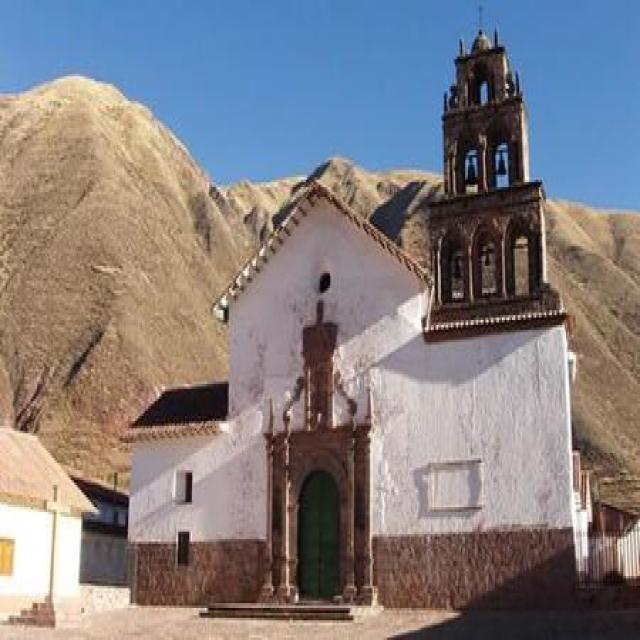6: (396, 8, 591, 599)
CAMPANARIO: (437, 31, 554, 336)
CUPULA: (30, 0, 606, 615)
SIMETRIA COLONIAL: (248, 410, 374, 612)
